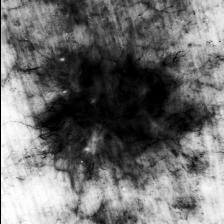Potentially Malignant Skin Tumors: (39, 48, 203, 178)
